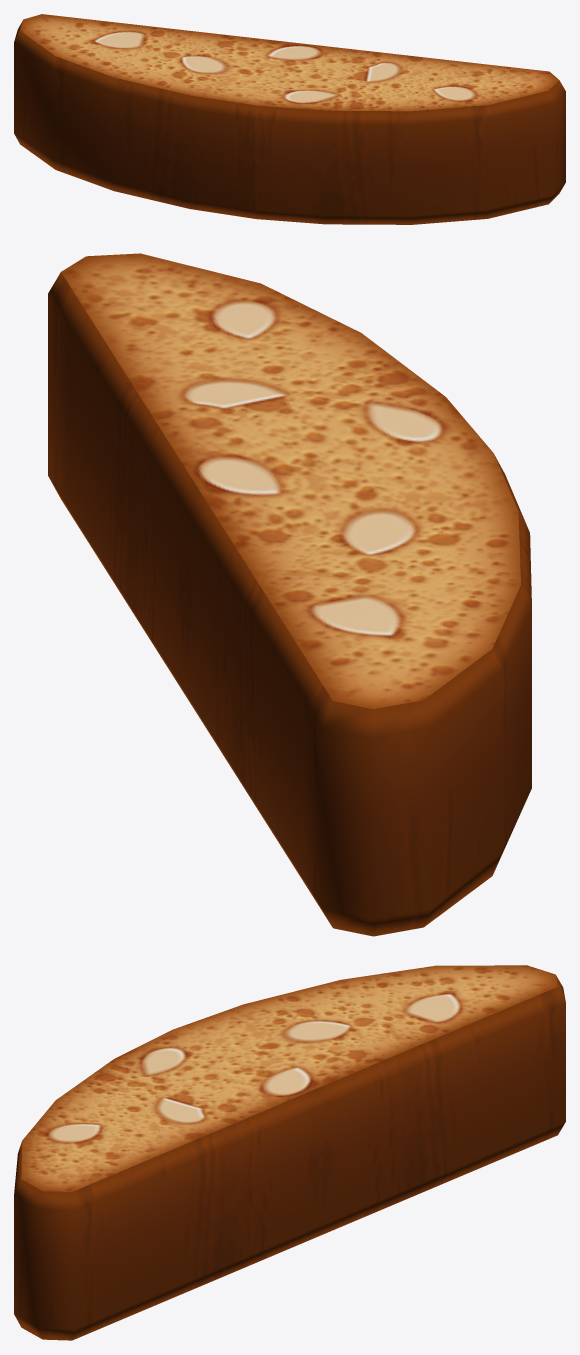
The model's file is 007-Biscotti_01.FBX.
The picture shows the model from 3 angles, top to bottom: view 1: azimuth 30°, elevation 25°; view 2: azimuth 150°, elevation 25°; view 3: azimuth 270°, elevation 25°; orthographic projection. The views are drawn at different scales.
Visible parts, largest first — view 1: 007-Biscotti_01; view 2: 007-Biscotti_01; view 3: 007-Biscotti_01.
Part boxes in pixels (x1=…): 007-Biscotti_01: x1=14, y1=14, x2=565, y2=224; 007-Biscotti_01: x1=48, y1=253, x2=531, y2=936; 007-Biscotti_01: x1=14, y1=965, x2=565, y2=1340.
Bounding box in the file's own units: 16.22 × 4.82 × 16.22.
